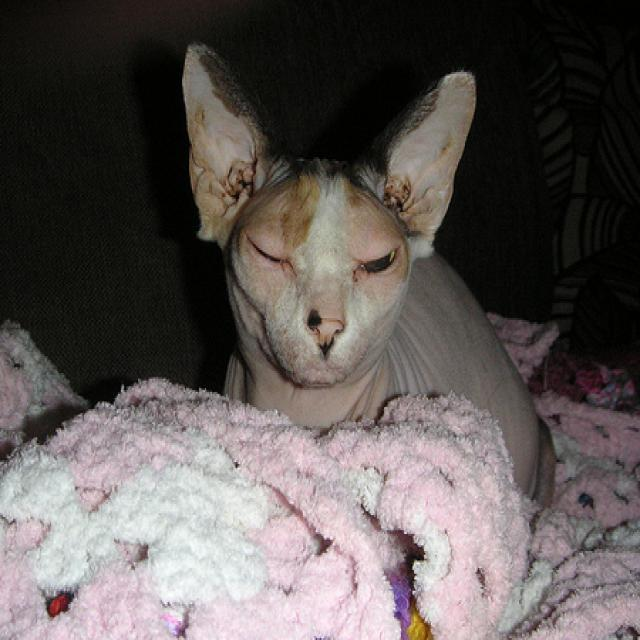Sphynx: (178, 33, 560, 523)
